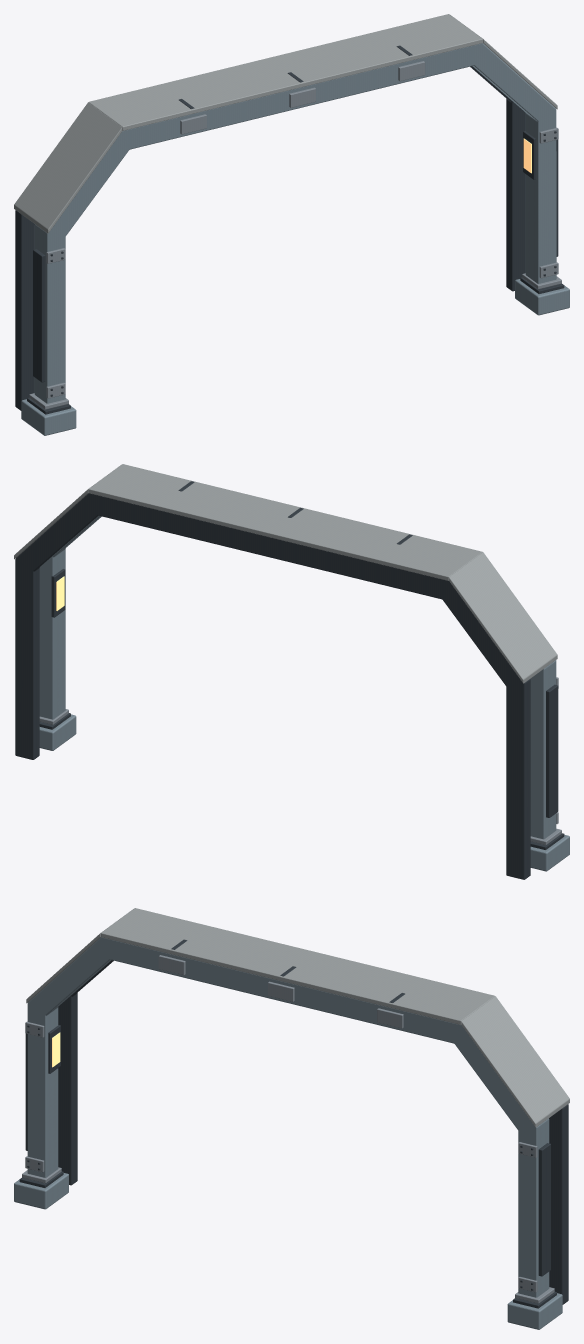
The model's file is NA_GalleryPortal_A_LOD0.fbx.
3 renders of one model, top to bottom at view 1: azimuth 30°, elevation 25°; view 2: azimuth 150°, elevation 25°; view 3: azimuth 330°, elevation 25°, orthographic.
Parts seen in each view (by area): view 1: NA_GalleryPortal_A_LOD0; view 2: NA_GalleryPortal_A_LOD0; view 3: NA_GalleryPortal_A_LOD0.
Boxes of the visible parts, left/top/right/bottom form: NA_GalleryPortal_A_LOD0: left=14, top=14, right=569, bottom=435; NA_GalleryPortal_A_LOD0: left=14, top=464, right=569, bottom=879; NA_GalleryPortal_A_LOD0: left=14, top=908, right=569, bottom=1329.
Bounding box in the file's own units: 30.86 × 16.08 × 3.95.
